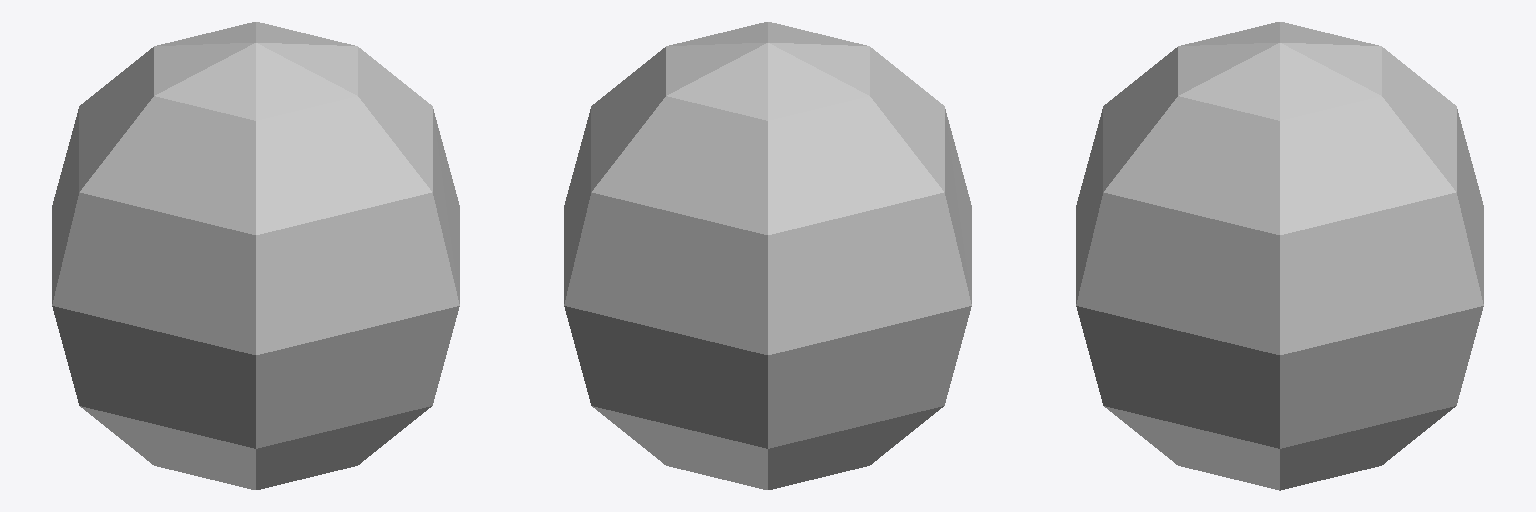
Rendered from FoliageNode.obj.
The picture shows the model from 3 angles: view 1: azimuth 30°, elevation 25°; view 2: azimuth 150°, elevation 25°; view 3: azimuth 270°, elevation 25°; orthographic projection.
Parts seen in each view (by area): view 1: FoliageNode; view 2: FoliageNode; view 3: FoliageNode.
Boxes of the visible parts, <box> form: FoliageNode: <box>52,22,459,489</box>; FoliageNode: <box>564,22,971,489</box>; FoliageNode: <box>1076,22,1483,490</box>.
Size of the model in its own units: 0.019 by 0.019 by 0.0165.